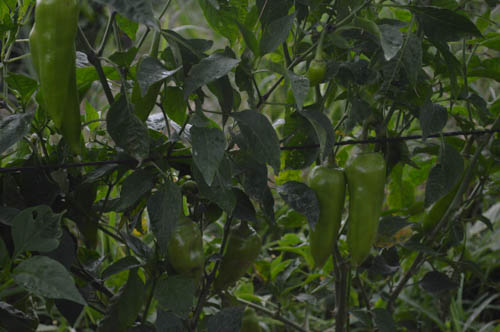ChiliPepper: (30, 30, 83, 152), (33, 4, 76, 127), (344, 155, 384, 265), (309, 167, 341, 265), (215, 234, 262, 291), (172, 221, 204, 271)
